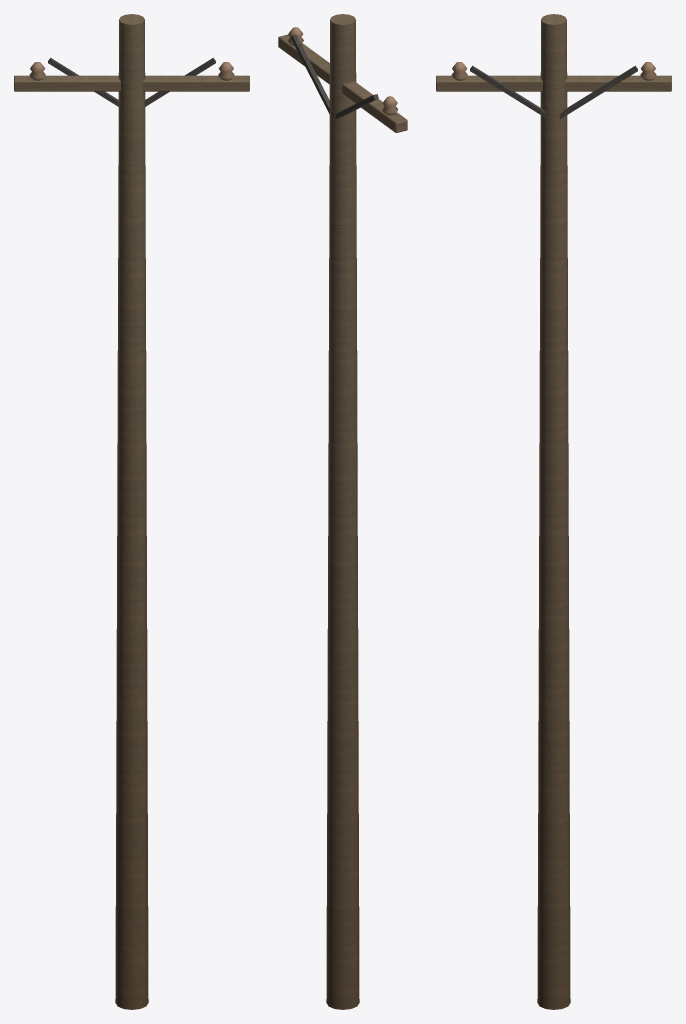
Rendered from prop_pole.glb.
3 views of the same model, side by side, from view 1: azimuth 90°, elevation 25°; view 2: azimuth 210°, elevation 25°; view 3: azimuth 270°, elevation 25° (orthographic).
Visible parts, largest first — view 1: Pole.001, Arm, Braces; view 2: Pole.001, Arm, Braces, Insulators; view 3: Pole.001, Arm, Braces.
Boxes of the visible parts, x1,y1,x2,y2 form: Pole.001: (115,14,148,1009); Arm: (14,75,249,91); Braces: (48,57,215,106); Pole.001: (326,14,359,1009); Arm: (278,34,407,132); Braces: (291,34,378,121); Insulators: (287,27,398,115); Pole.001: (537,14,570,1009); Arm: (436,75,671,91); Braces: (470,65,637,119).
Size of the model in its own units: 0.28 by 9.2 by 2.
Materials: 3 (2 with a texture image).
